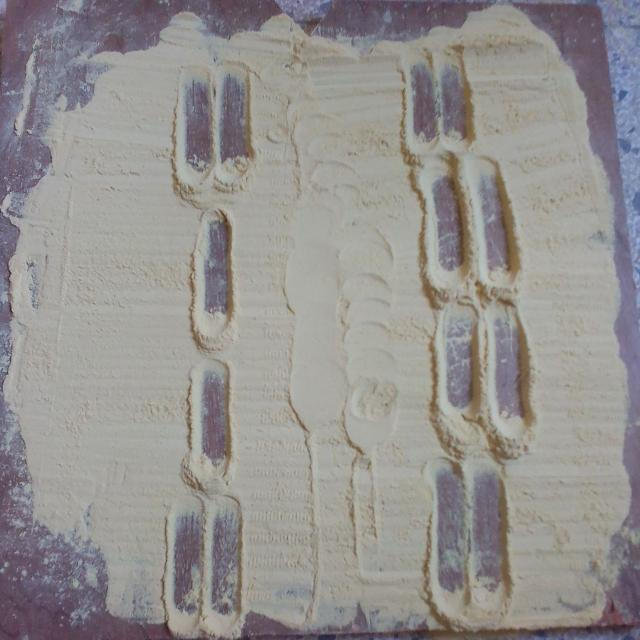double: (426, 456, 516, 594), (433, 298, 527, 415), (164, 490, 246, 620), (421, 172, 517, 277), (170, 64, 253, 182), (398, 46, 481, 152)
single: (186, 351, 232, 468), (192, 205, 238, 316)
